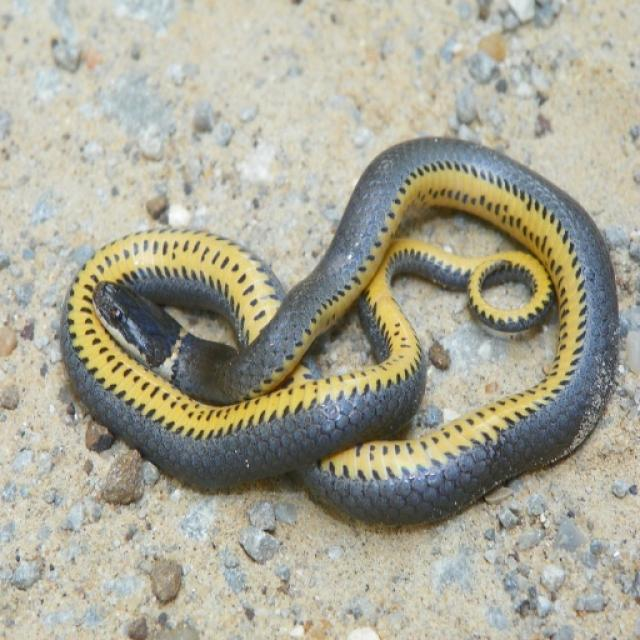snake: (58, 114, 624, 534)
